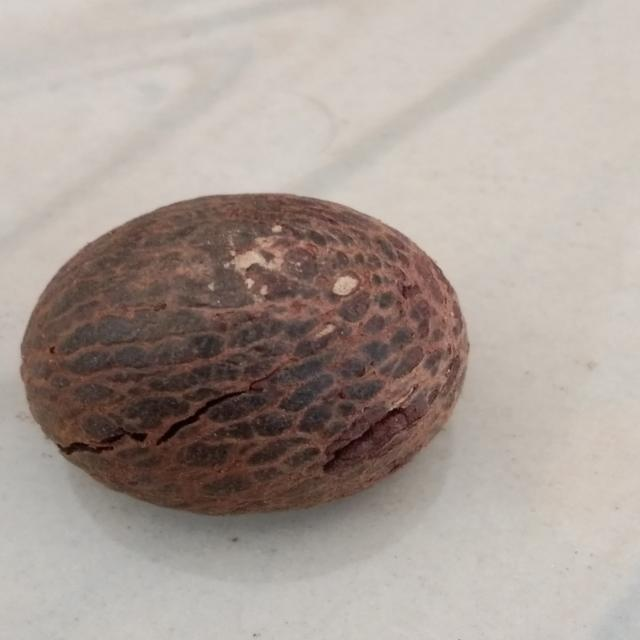karigot: (5, 173, 474, 532)
